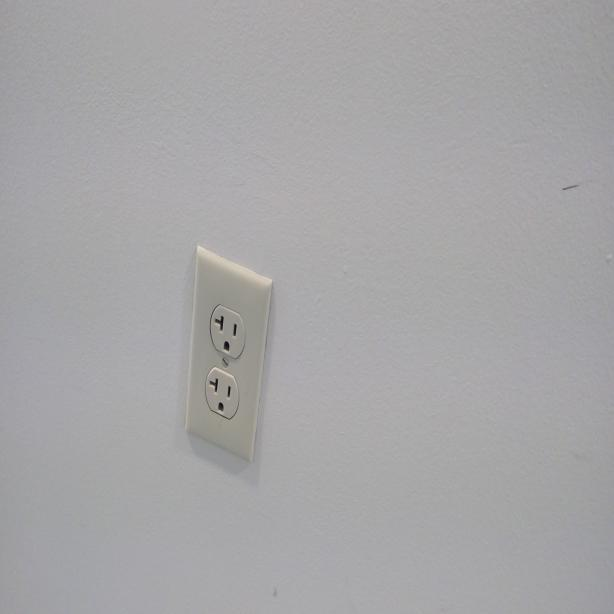typeb: (207, 300, 248, 364), (206, 369, 239, 422)
